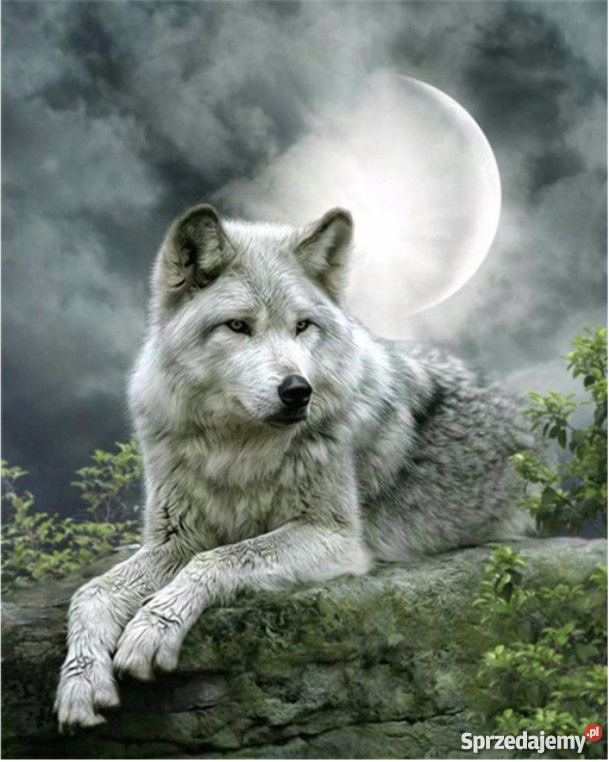wolf: (1, 207, 584, 661)
